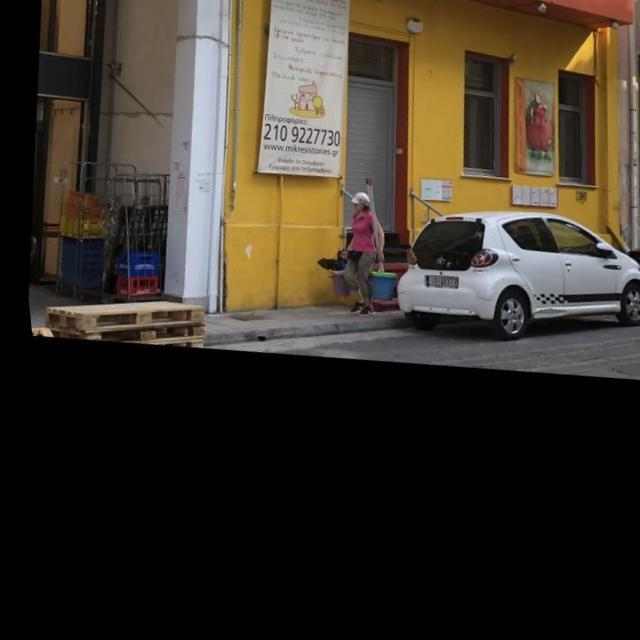-: (188, 174, 212, 200)
